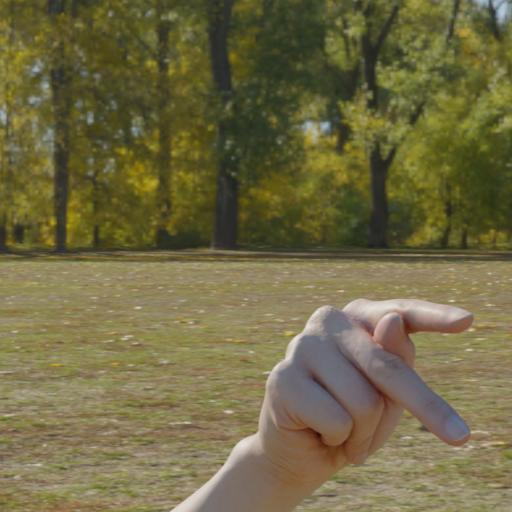P: (227, 277, 504, 491)
